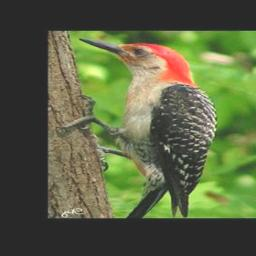Woodpecker: (55, 37, 219, 218)
